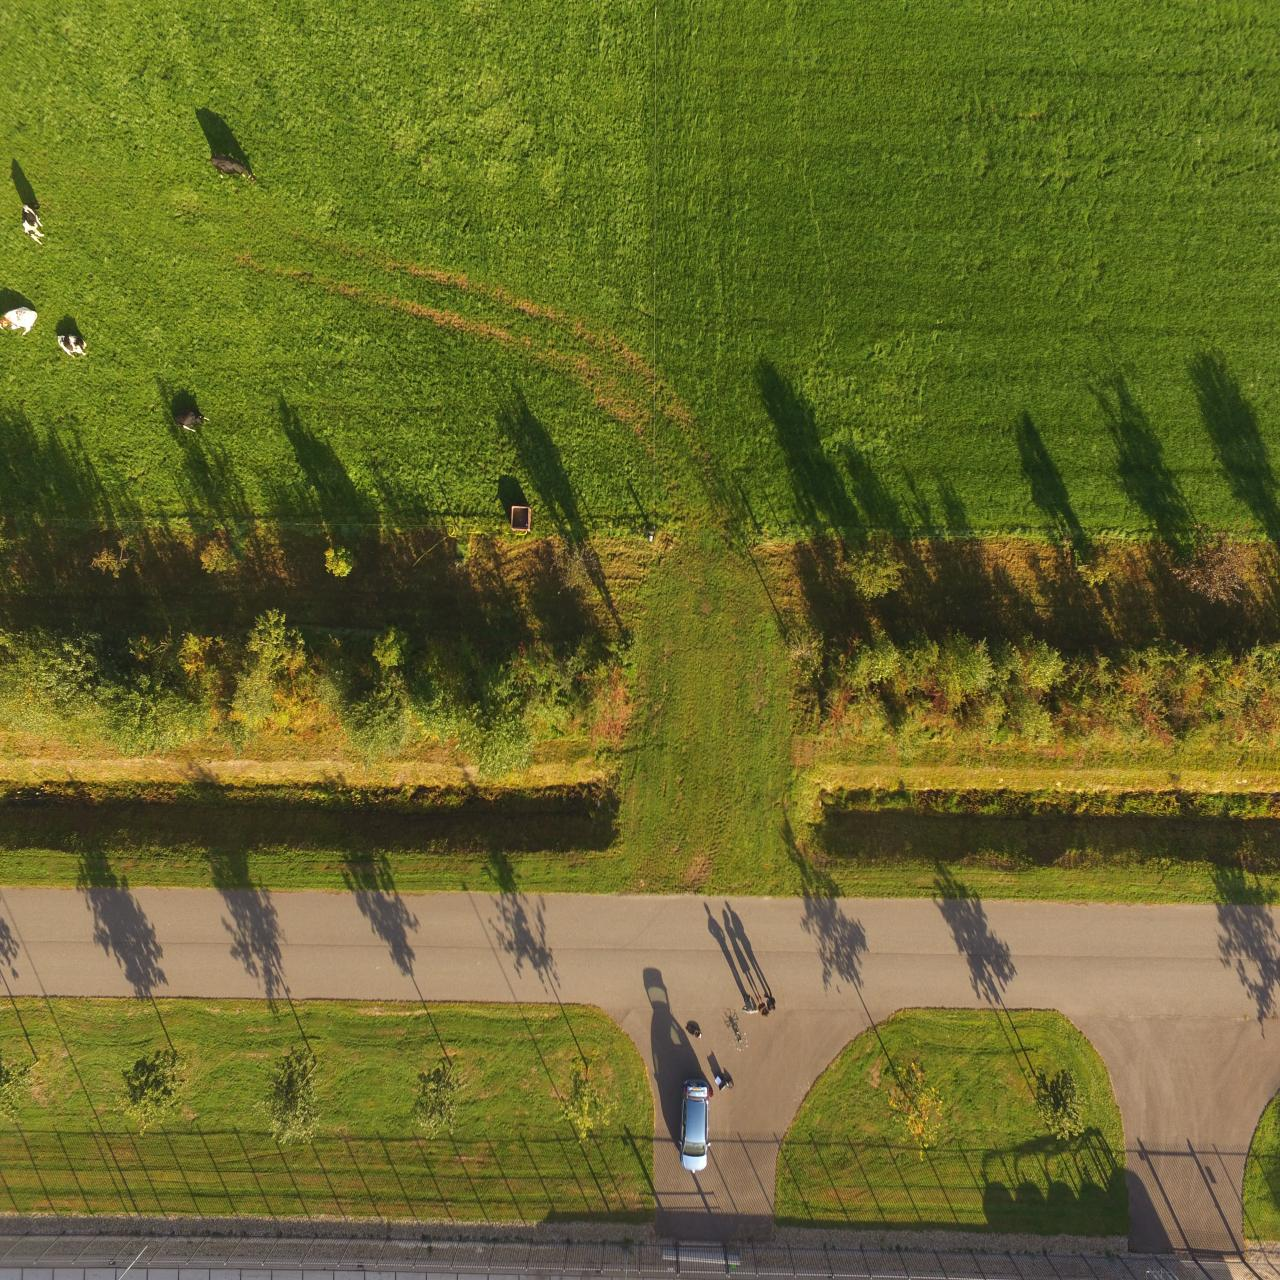cow: (207, 142, 258, 198), (167, 393, 215, 437), (0, 301, 45, 339), (16, 197, 44, 255), (55, 321, 101, 356)
